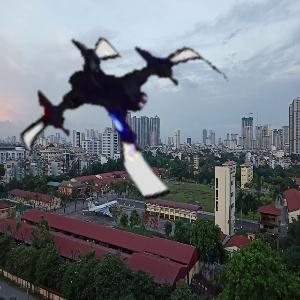drone: (20, 10, 234, 224)
